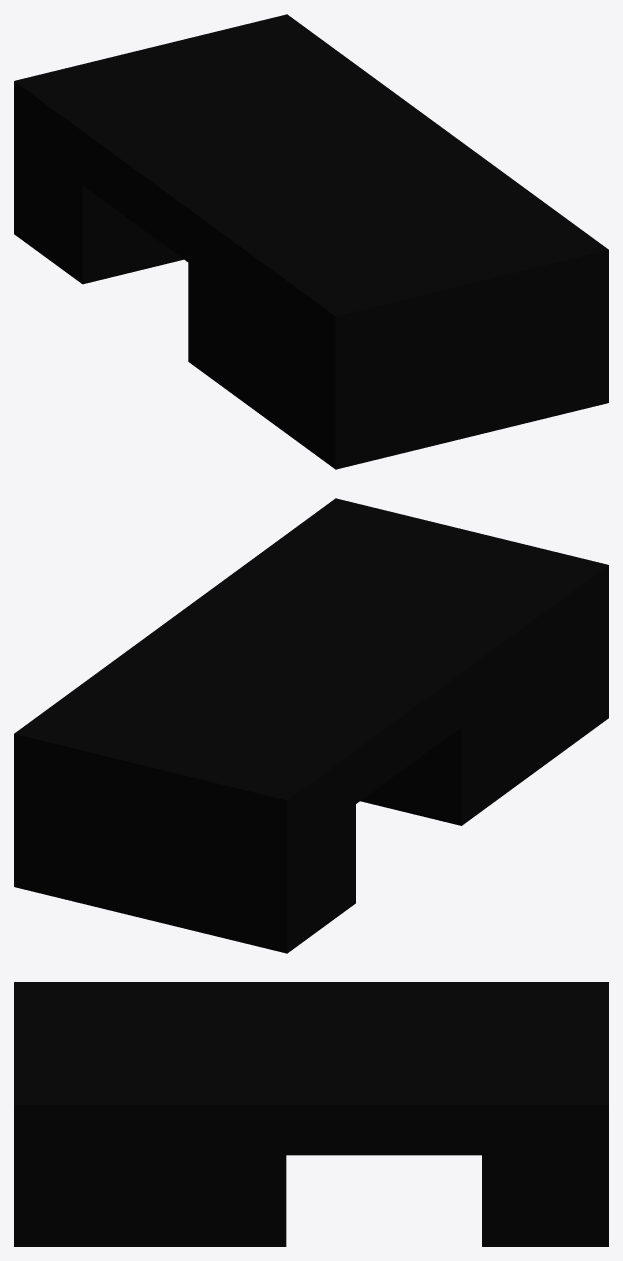
Rendered from DODAI.obj.
3 renders of one model, top to bottom at view 1: azimuth 30°, elevation 25°; view 2: azimuth 150°, elevation 25°; view 3: azimuth 270°, elevation 25°, orthographic. The views are drawn at different scales.
Parts seen in each view (by area): view 1: 立方体.004_立方体.012; view 2: 立方体.004_立方体.012; view 3: 立方体.004_立方体.012.
Part boxes in pixels (x1,y1,x2,y2): 立方体.004_立方体.012: (14, 14, 608, 469); 立方体.004_立方体.012: (14, 498, 608, 953); 立方体.004_立方体.012: (14, 982, 608, 1246).
Size of the model in its own units: 1.62 by 0.8694 by 3.31.
Materials: 1 (1 with a texture image).
